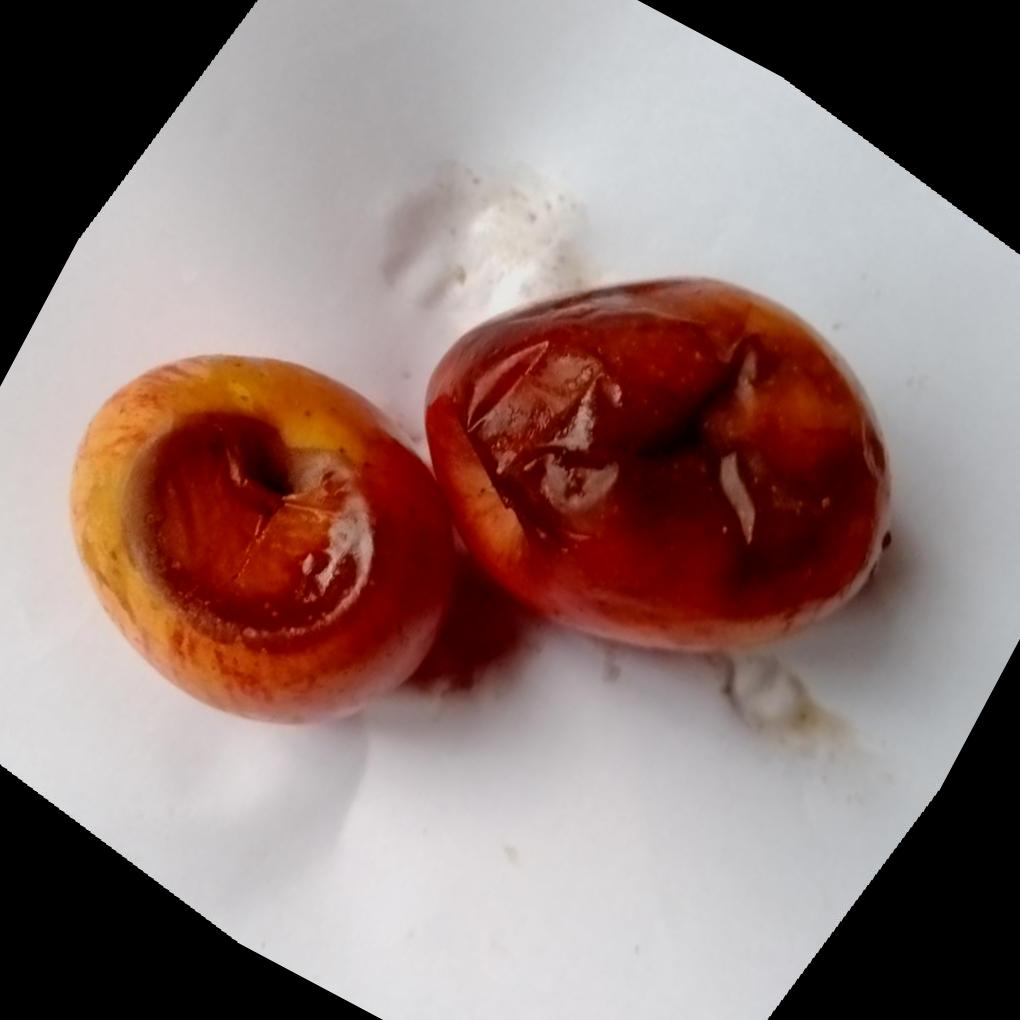FreshOrange: (64, 275, 889, 724)
